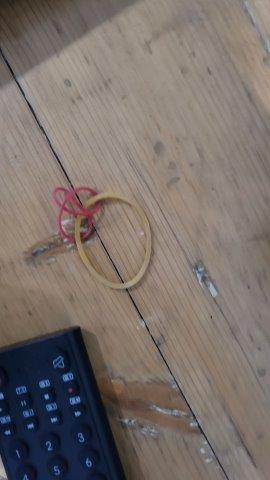karet: (53, 186, 154, 293)
